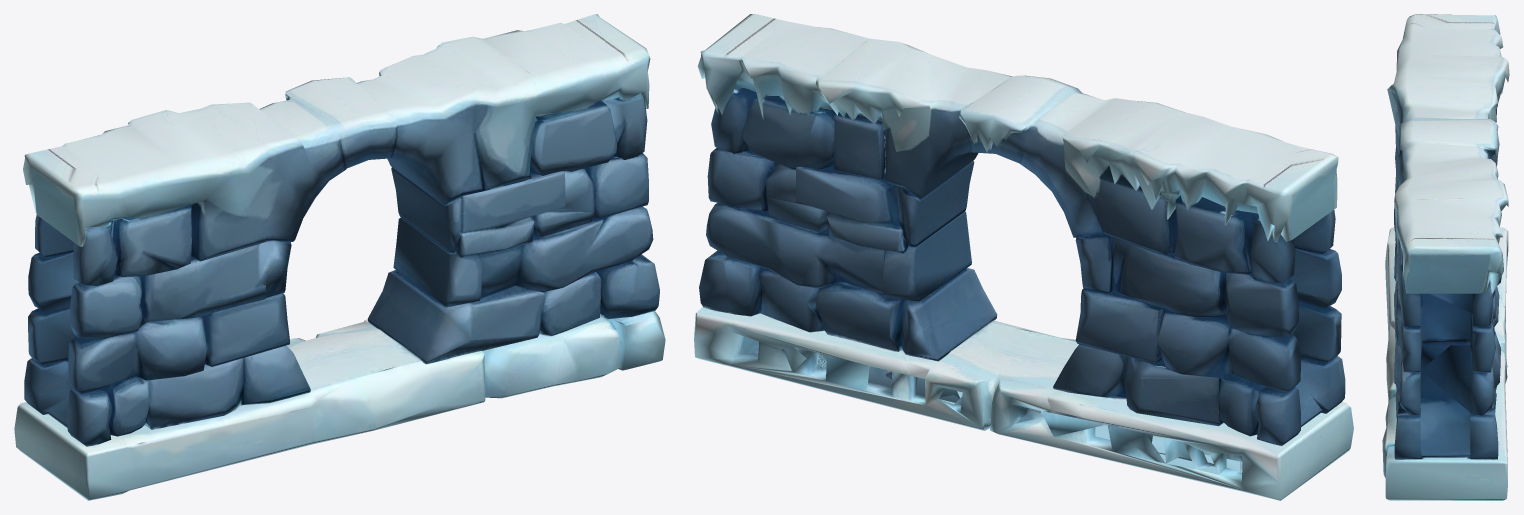
Rendered from iceWall.glb.
3 views of the same model, side by side, from view 1: azimuth 30°, elevation 25°; view 2: azimuth 150°, elevation 25°; view 3: azimuth 270°, elevation 25° (orthographic). The views are drawn at different scales.
Size of the model in its own units: 0.959 by 0.4893 by 0.2177.
1 material, 1 textured.
